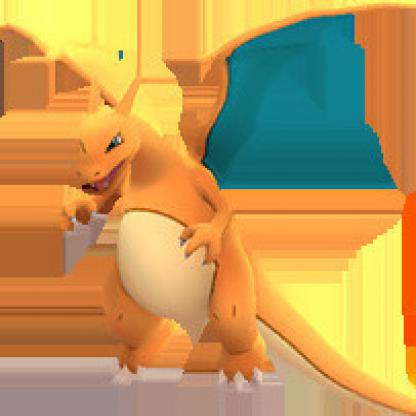Charizard: (1, 7, 415, 415)
